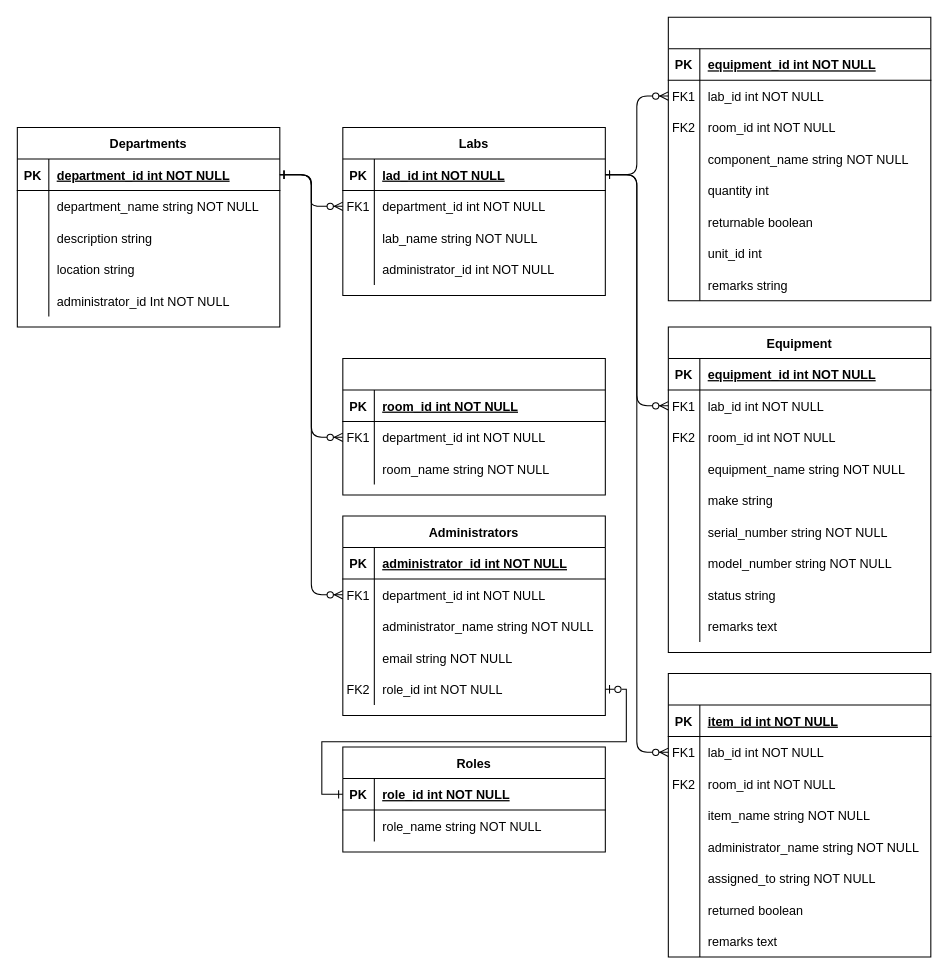
The diagram is 948 pixels wide and 974 high, and some of its shapes have lost their labels. Each missing label, with the box of its shape:
Assigned Items: (667, 673, 931, 957)
Components: (667, 16, 931, 301)
Rooms: (342, 358, 605, 495)
